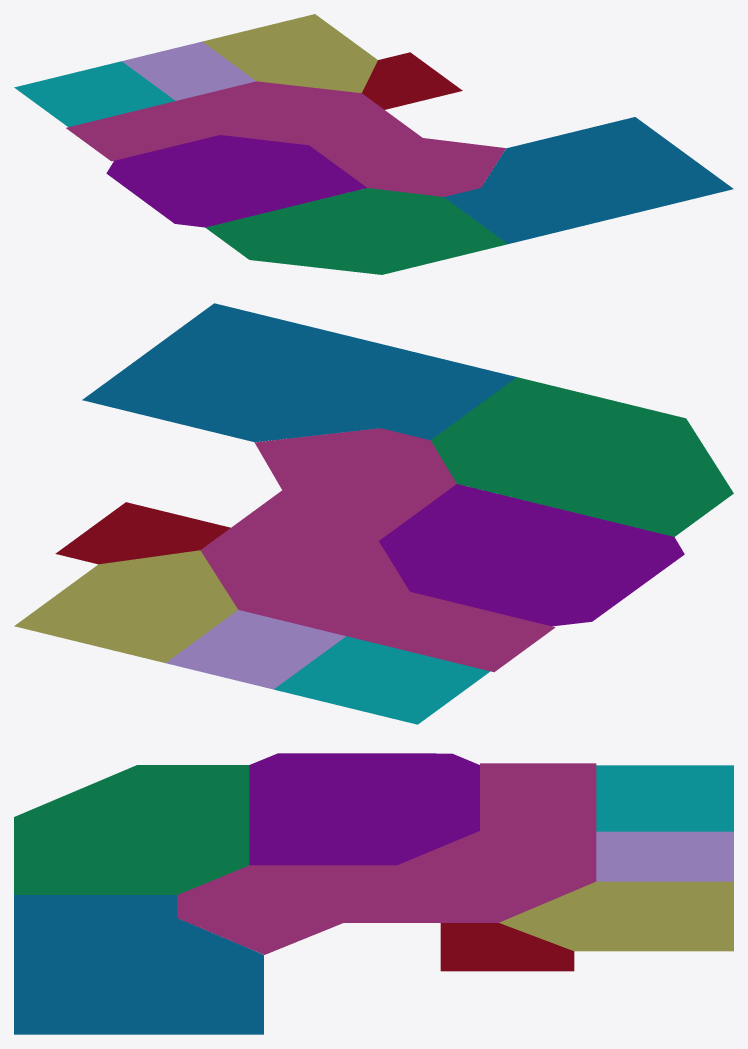
The model's file is HouseFloor.fbx.
3 views of the same model, one above another, from view 1: azimuth 30°, elevation 25°; view 2: azimuth 150°, elevation 25°; view 3: azimuth 270°, elevation 25° (orthographic). The views are drawn at different scales.
Visible parts, largest first — view 1: Floor; view 2: Floor; view 3: Floor.
Boxes of the visible parts, x1,y1,x2,y2 form: Floor: (14,14,733,274); Floor: (14,303,733,724); Floor: (14,753,733,1034).
Bounding box in the file's own units: 33858 × 0.000366 × 36613.
